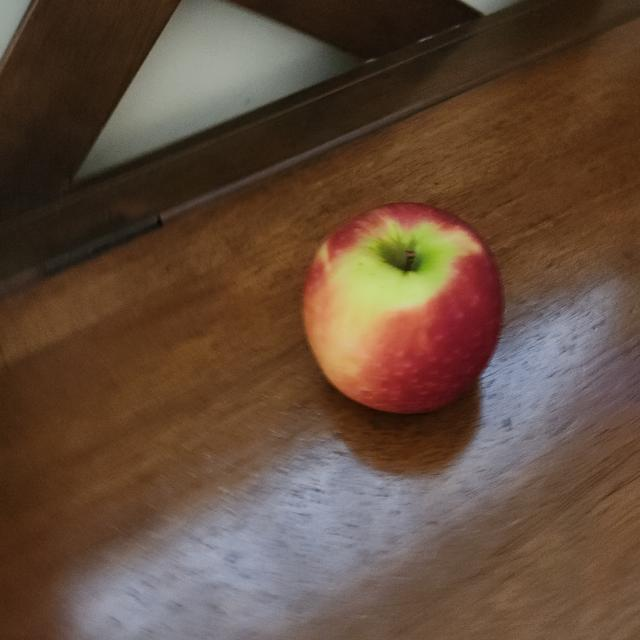apple: (293, 194, 509, 423)
